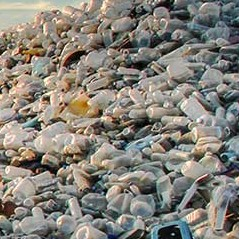garbage: (1, 29, 239, 236), (42, 1, 238, 239)
